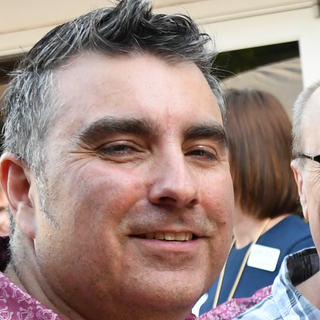eye: (92, 139, 151, 164), (178, 140, 223, 168)
